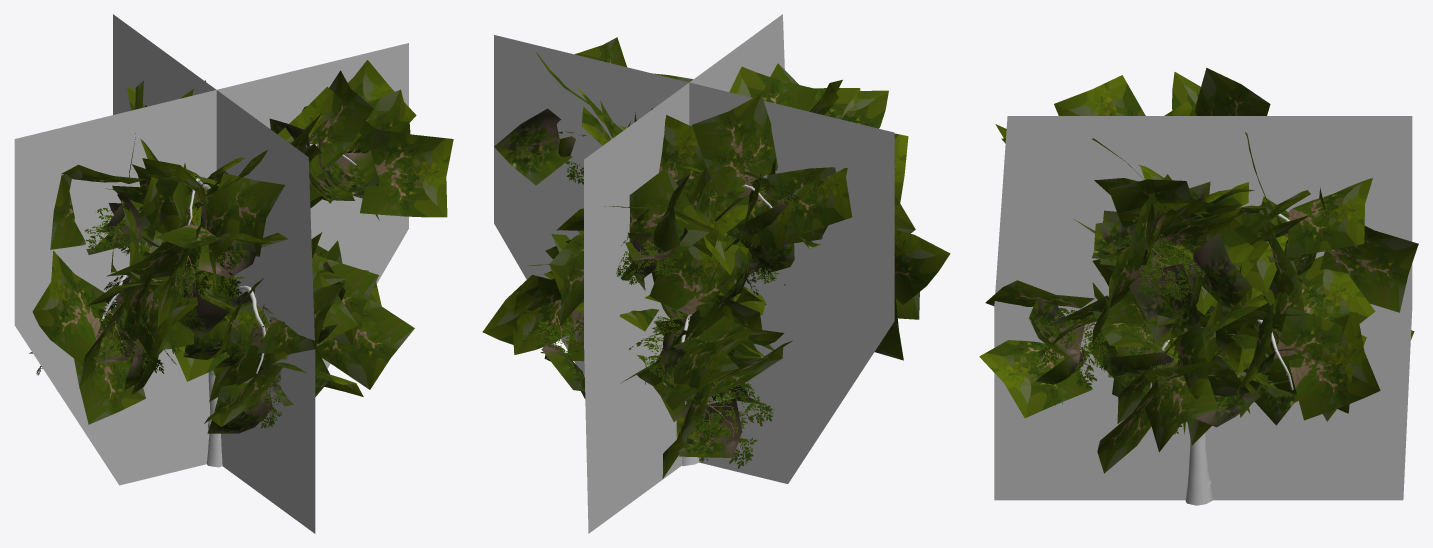
The model's file is Citrus2.fbx.
3 views of the same model, side by side, from view 1: azimuth 30°, elevation 25°; view 2: azimuth 150°, elevation 25°; view 3: azimuth 270°, elevation 25° (orthographic). The views are drawn at different scales.
Visible parts, largest first — view 1: LOD0, Billboard; view 2: Billboard, LOD0; view 3: LOD0, Billboard.
Boxes of the visible parts, x1,y1,x2,y2 form: LOD0: (29, 60, 453, 467); Billboard: (14, 14, 408, 533); Billboard: (494, 14, 894, 533); LOD0: (482, 37, 950, 478); LOD0: (979, 67, 1418, 505); Billboard: (994, 116, 1412, 500).
Size of what is drawn, in the model's own units: 403 by 355 by 358.
